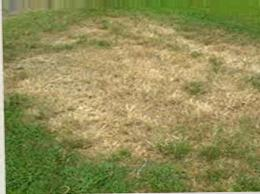patch: (39, 55, 186, 136), (180, 36, 244, 123), (101, 24, 182, 71), (111, 125, 214, 159)
